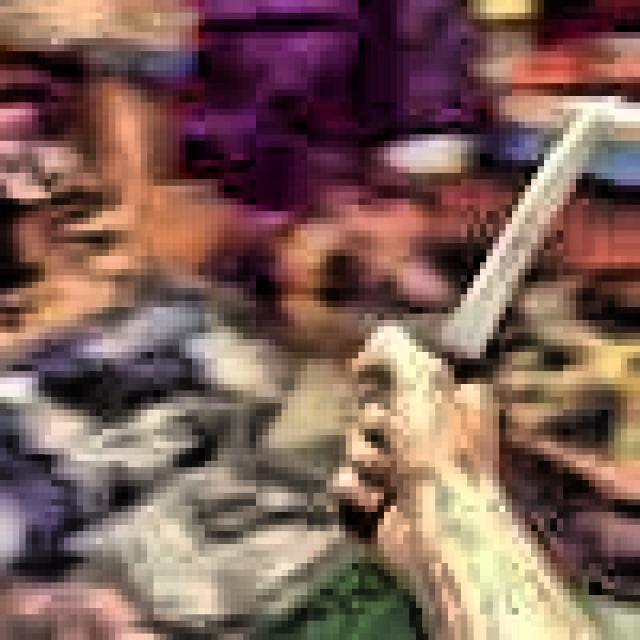knife: (346, 100, 624, 535)
